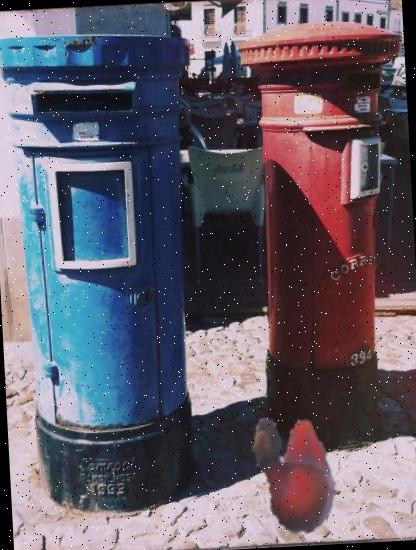Banana: (229, 407, 360, 538)
